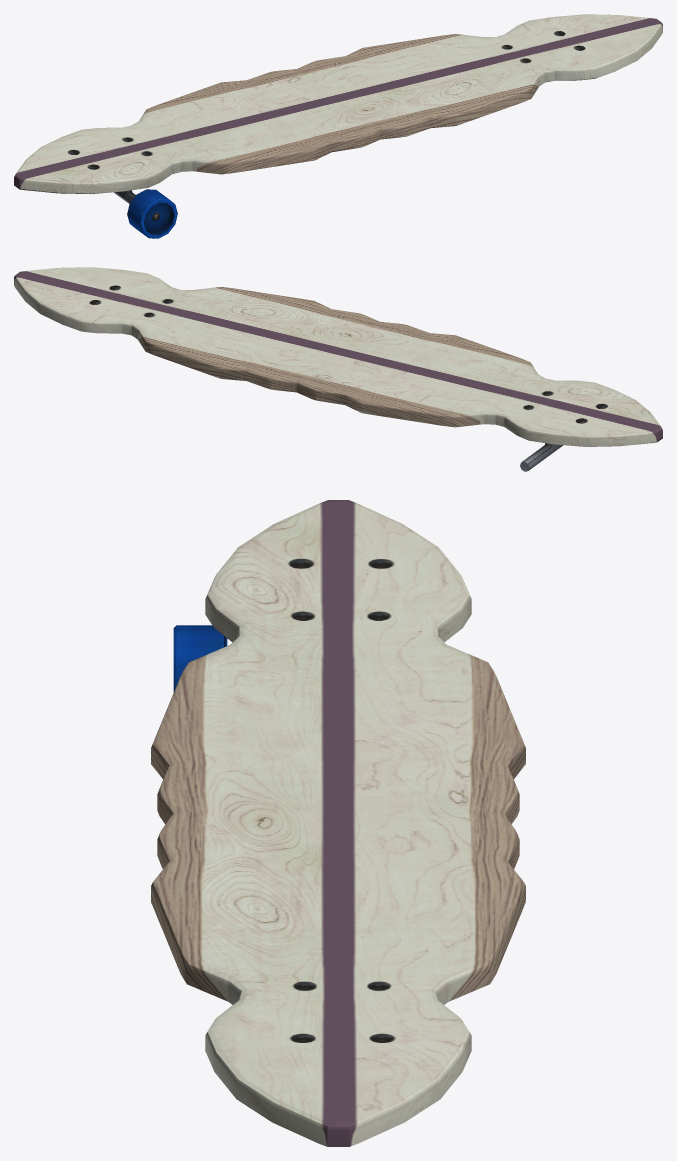
File: SkateBoard10.fbx
3 views of the same model, one above another, from view 1: azimuth 30°, elevation 25°; view 2: azimuth 150°, elevation 25°; view 3: azimuth 270°, elevation 25° (orthographic). The views are drawn at different scales.
Parts seen in each view (by area): view 1: Board, wheel; view 2: Board, BoardBase; view 3: Board, wheel.
Part boxes in pixels (box(x1,y1,x2,y2)): Board: box(14, 14, 662, 194); wheel: box(127, 189, 177, 238); Board: box(14, 267, 662, 446); BoardBase: box(520, 443, 562, 471); Board: box(151, 500, 525, 1146); wheel: box(173, 625, 227, 692).
Size of the model in its own units: 0.7103 by 0.0601 by 0.1793.
